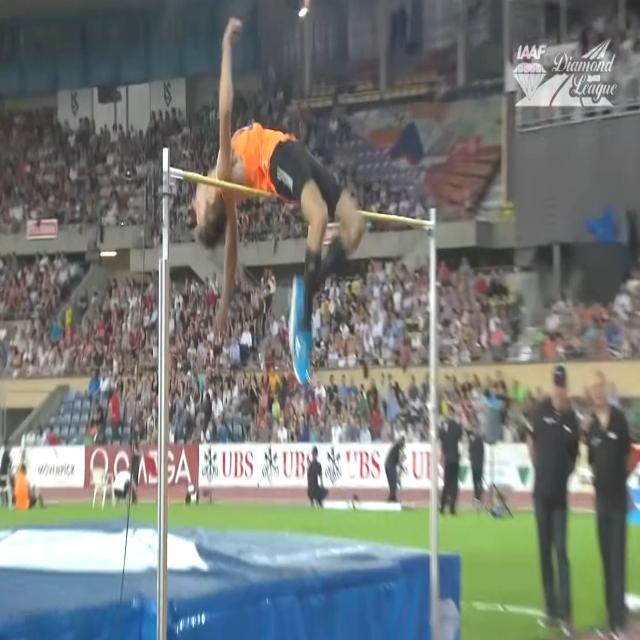jump: (192, 16, 365, 377)
